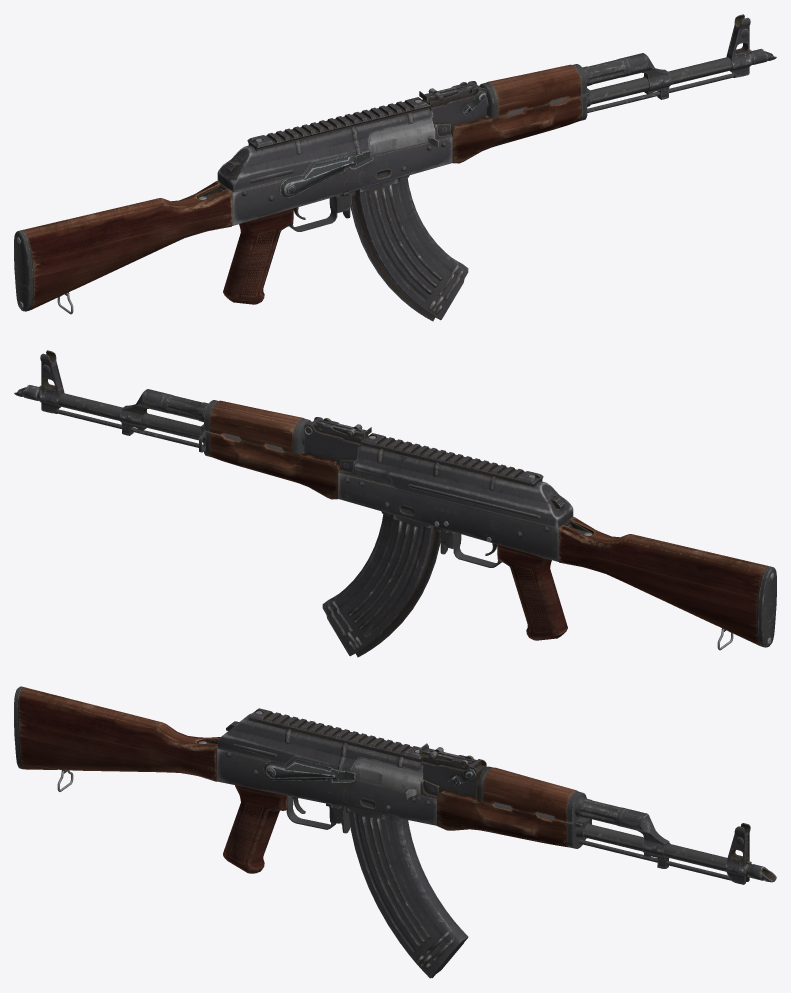
The model's file is akm.glb.
The picture shows the model from 3 angles, top to bottom: view 1: azimuth 30°, elevation 25°; view 2: azimuth 150°, elevation 25°; view 3: azimuth 330°, elevation 25°; orthographic projection.
Parts seen in each view (by area): view 1: Wp_Gun_AKM; view 2: Wp_Gun_AKM; view 3: Wp_Gun_AKM.
Part boxes in pixels (left/top/right/bottom): Wp_Gun_AKM: left=14, top=14, right=776, bottom=321; Wp_Gun_AKM: left=14, top=350, right=776, bottom=657; Wp_Gun_AKM: left=14, top=686, right=776, bottom=978.
Size of the model in its own units: 224 by 64.9 by 14.43.
Materials: 1 (1 with a texture image).
